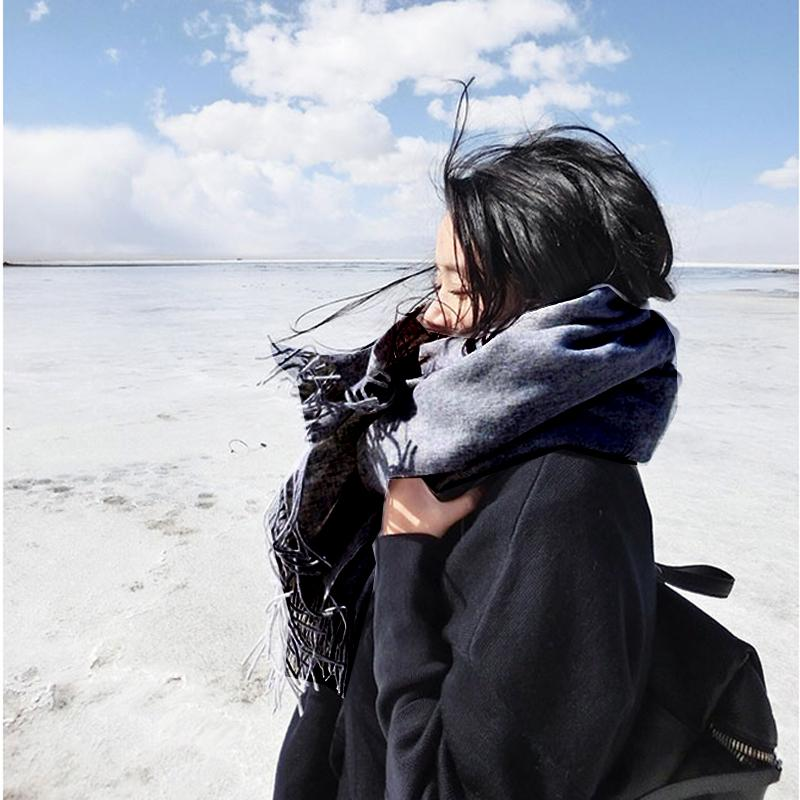WRONG: (421, 236, 537, 384)
